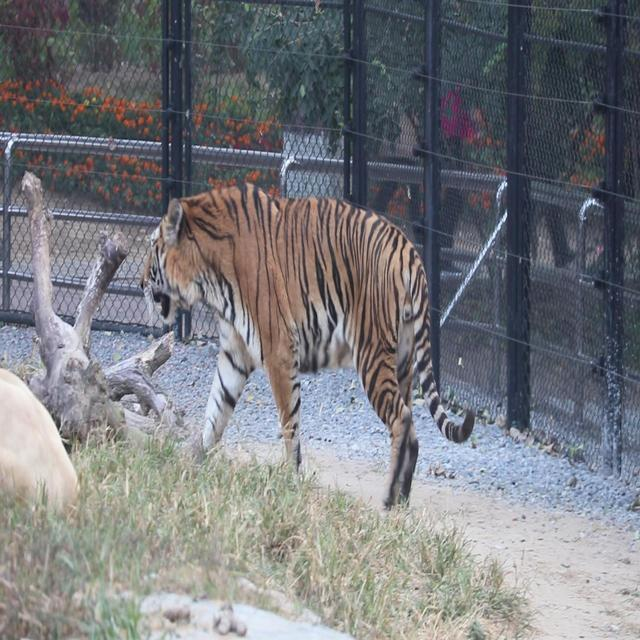tiger: (138, 180, 475, 512), (0, 365, 79, 521)
